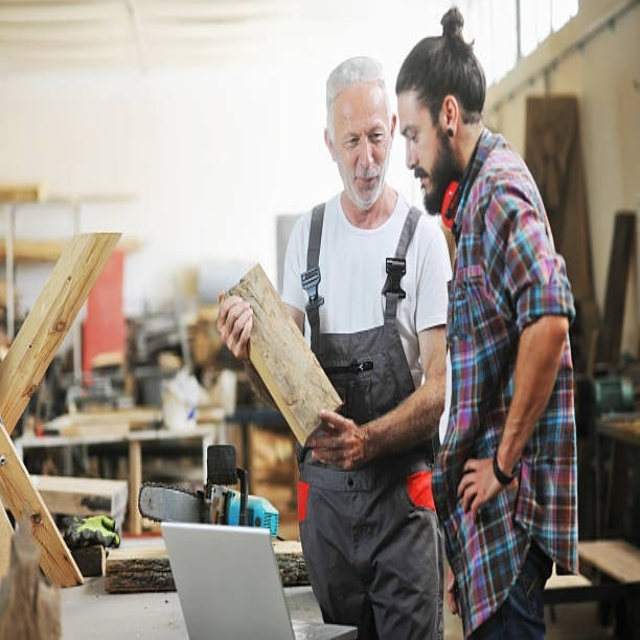Sin_gafas: (335, 120, 390, 148), (399, 115, 434, 146)
Sin_guantes: (304, 407, 366, 472), (455, 451, 507, 523), (215, 290, 254, 362)
Sin_mascara: (352, 165, 382, 201), (411, 164, 437, 198)
